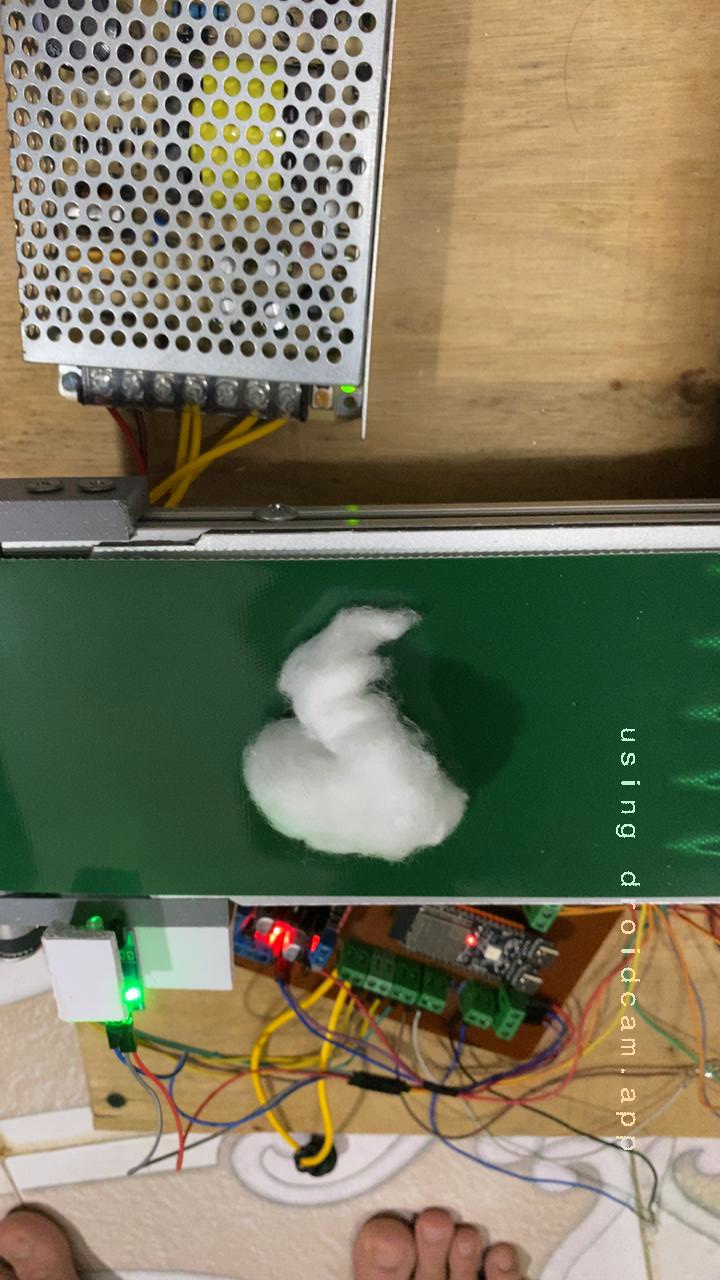cotton: (210, 581, 491, 876)
